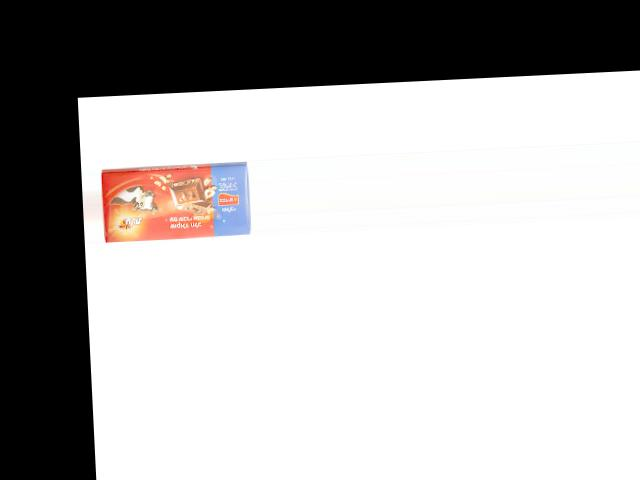chocolate: (99, 162, 250, 241)
